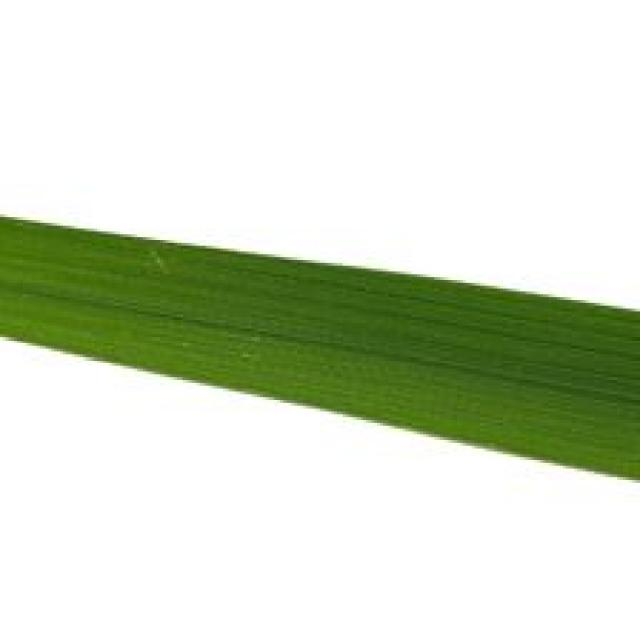Rice___Healthy_Rice_Plant: (0, 212, 637, 482)
